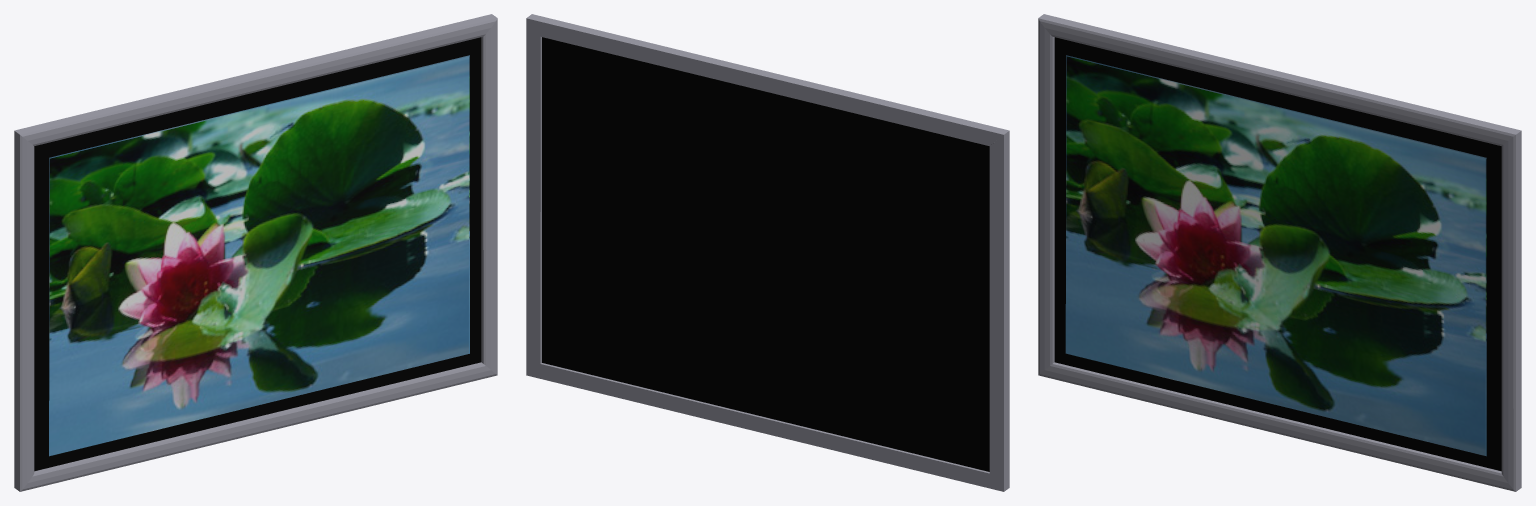
File: WaterLilyFrame.obj
3 views of the same model, side by side, from view 1: azimuth 30°, elevation 25°; view 2: azimuth 150°, elevation 25°; view 3: azimuth 330°, elevation 25° (orthographic).
Parts seen in each view (by area): view 1: Photo_Cube_Material_WaterLily, MetalFrame_Cylinder_Aluminium.014, Frame_Black_Material.018; view 2: Frame_Black_Material.018, MetalFrame_Cylinder_Aluminium.014; view 3: Photo_Cube_Material_WaterLily, MetalFrame_Cylinder_Aluminium.014, Frame_Black_Material.018.
Boxes of the visible parts, bbox=[...] form: Photo_Cube_Material_WaterLily: bbox=[49, 55, 469, 456]; MetalFrame_Cylinder_Aluminium.014: bbox=[14, 14, 497, 491]; Frame_Black_Material.018: bbox=[34, 37, 481, 471]; Frame_Black_Material.018: bbox=[542, 37, 989, 471]; MetalFrame_Cylinder_Aluminium.014: bbox=[526, 14, 1009, 491]; Photo_Cube_Material_WaterLily: bbox=[1065, 55, 1486, 456]; MetalFrame_Cylinder_Aluminium.014: bbox=[1038, 14, 1521, 491]; Frame_Black_Material.018: bbox=[1054, 37, 1501, 471].
Size of the model in its own units: 67 by 47.86 by 1.6.
Materials: 3 (1 with a texture image).
